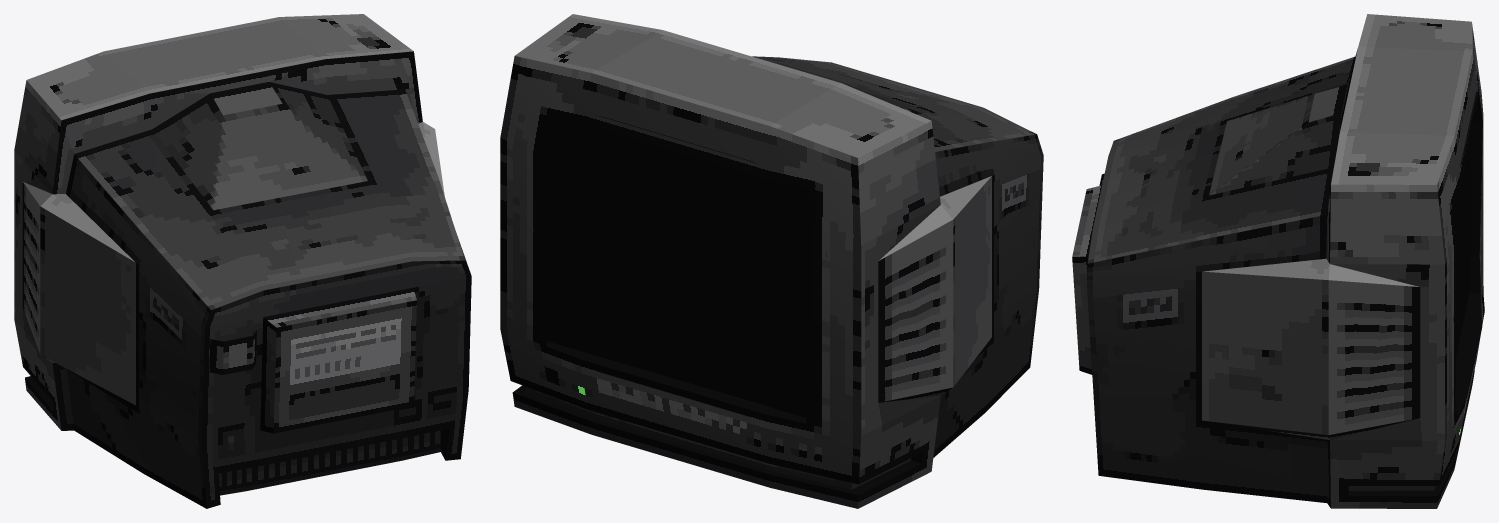
File: cool_tv.glb
The picture shows the model from 3 angles, left to right: view 1: azimuth 30°, elevation 25°; view 2: azimuth 150°, elevation 25°; view 3: azimuth 270°, elevation 25°; orthographic projection. The views are drawn at different scales.
Parts seen in each view (by area): view 1: TV; view 2: TV, Cube; view 3: TV, Cube.
Part boxes in pixels (x1,y1,x2,y2): TV: (14, 14, 471, 508); TV: (500, 14, 1043, 508); Cube: (540, 118, 814, 417); TV: (1072, 14, 1484, 508); Cube: (1452, 136, 1470, 357).
Bounding box in the file's own units: 223 × 182 × 204.
2 materials, 1 textured.
